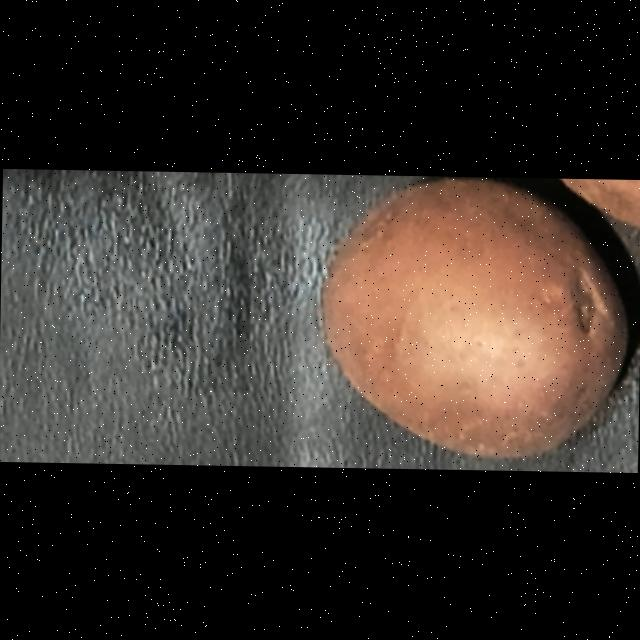Diseased-fungal potato: (316, 173, 632, 462)
